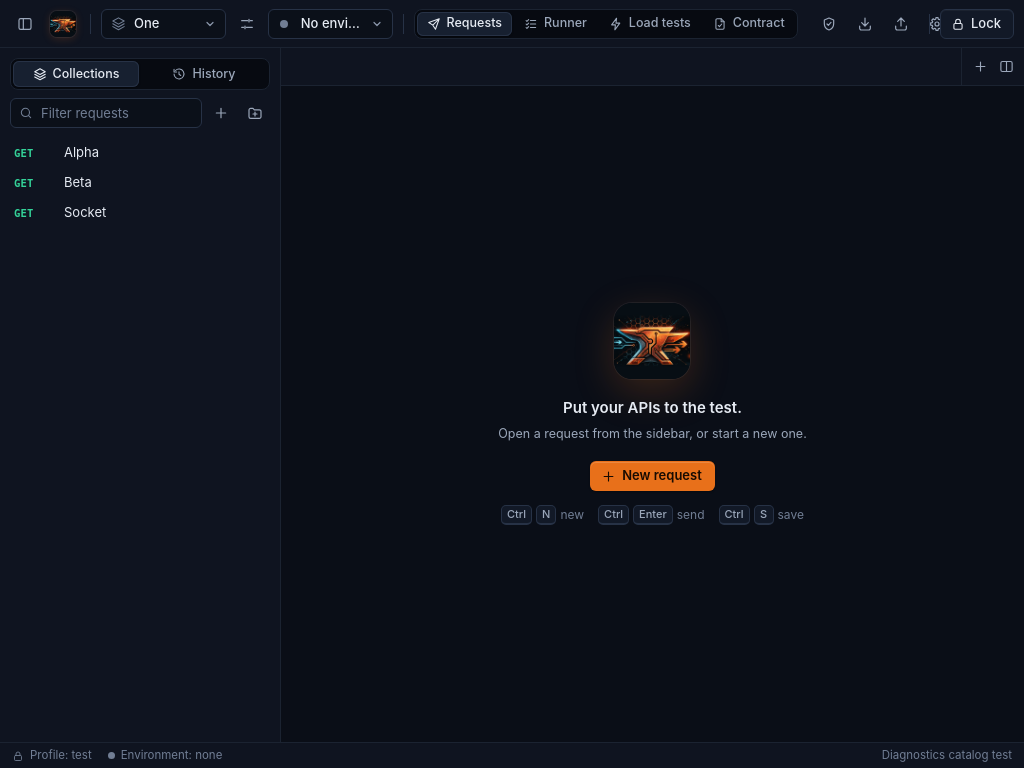
Test: session controls › drops queued session progress from a reused manual ID (remount=false)
expect the list item "GET Alpha" is shown: met, box [14,144,99,160]
Click the list item "GET Socket" at (85, 212), box [14,204,106,220]
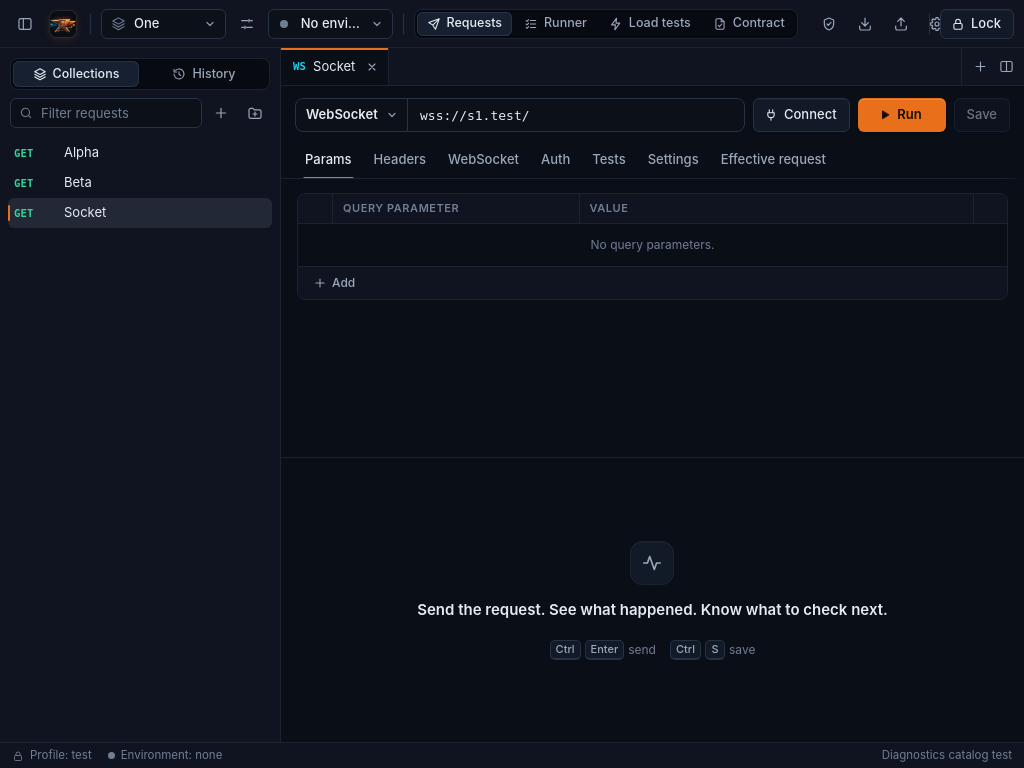
expect the tab "WS Socket" is shown: met, box [281,48,389,85]
Click the button "Connect" at (801, 115), box [753,98,850,132]
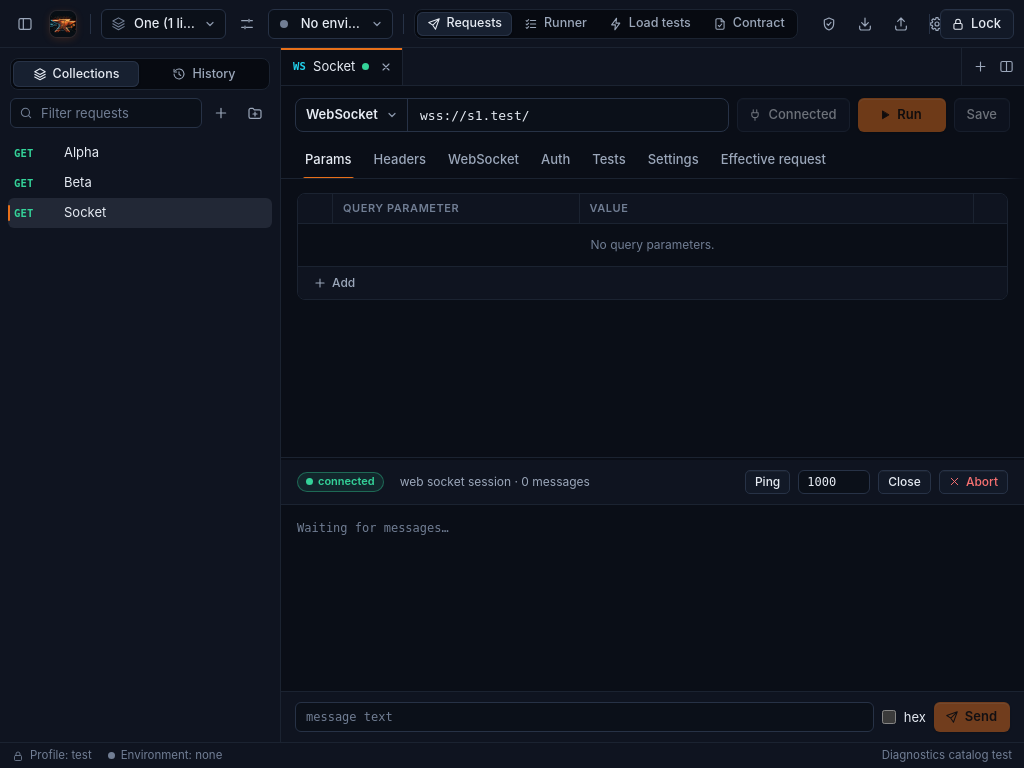
Click the button named "Close Socket" at (386, 66), box [376,56,396,76]
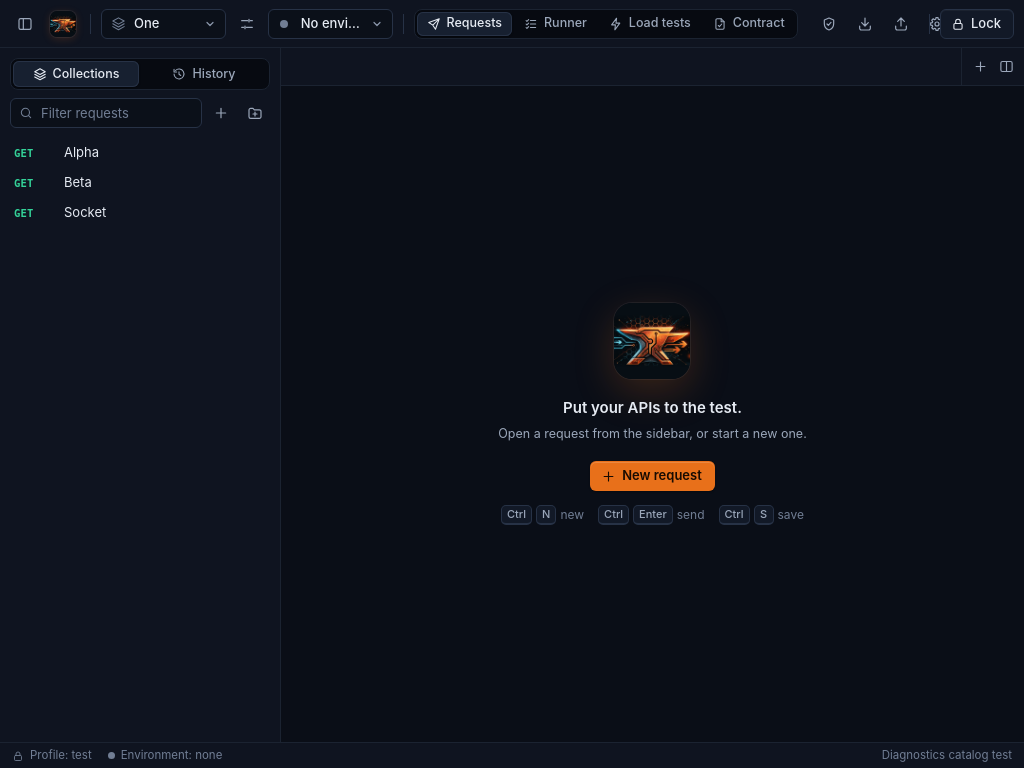
Click the list item "GET Alpha" at (82, 152), box [14,144,99,160]
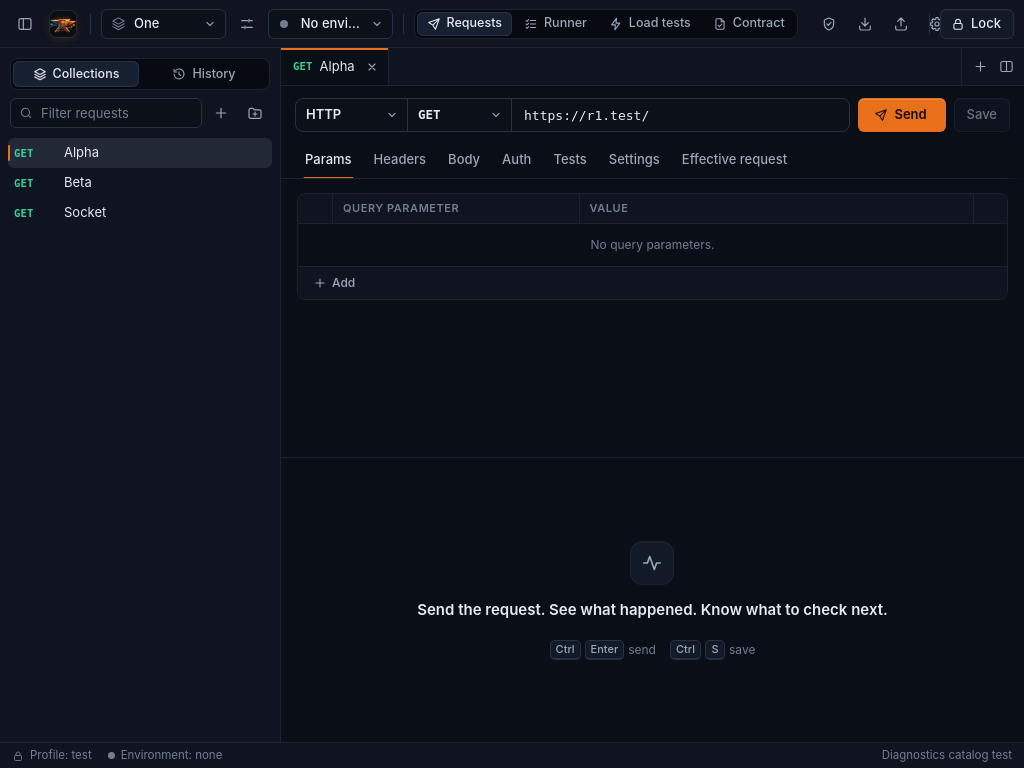
expect the tab "GET Alpha" is shown: met, box [281,48,389,85]
Click the button "Send" at (902, 115), box [858,98,946,132]
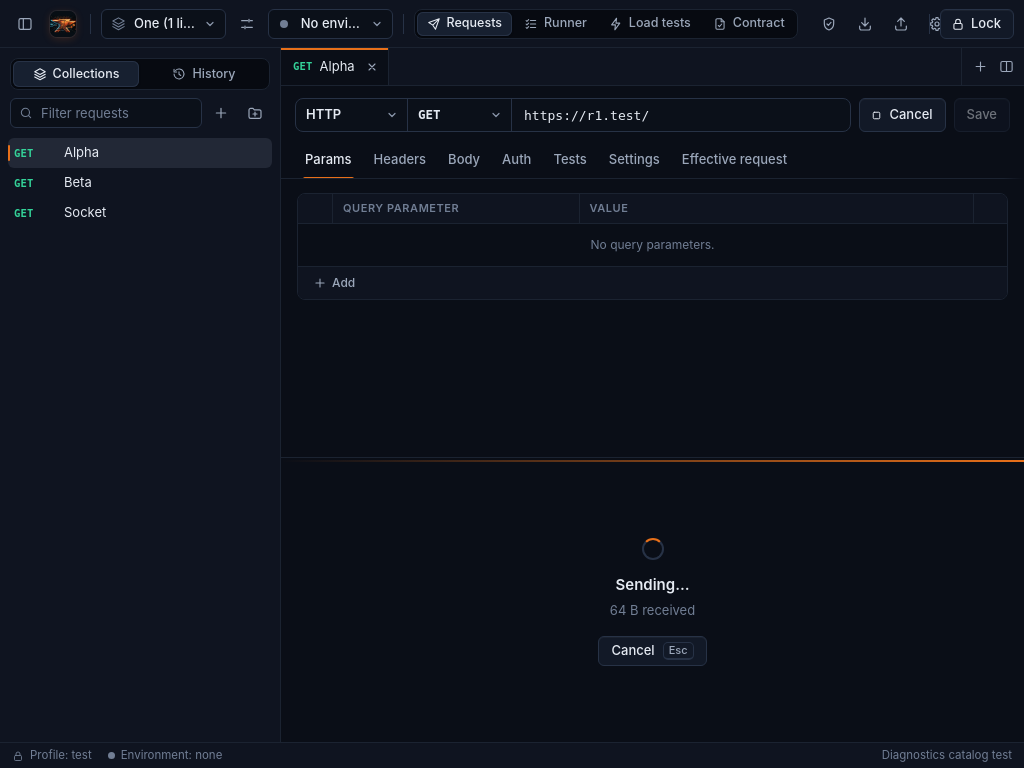
expect the text "64 B received" is shown: met, box [610,600,695,620]
